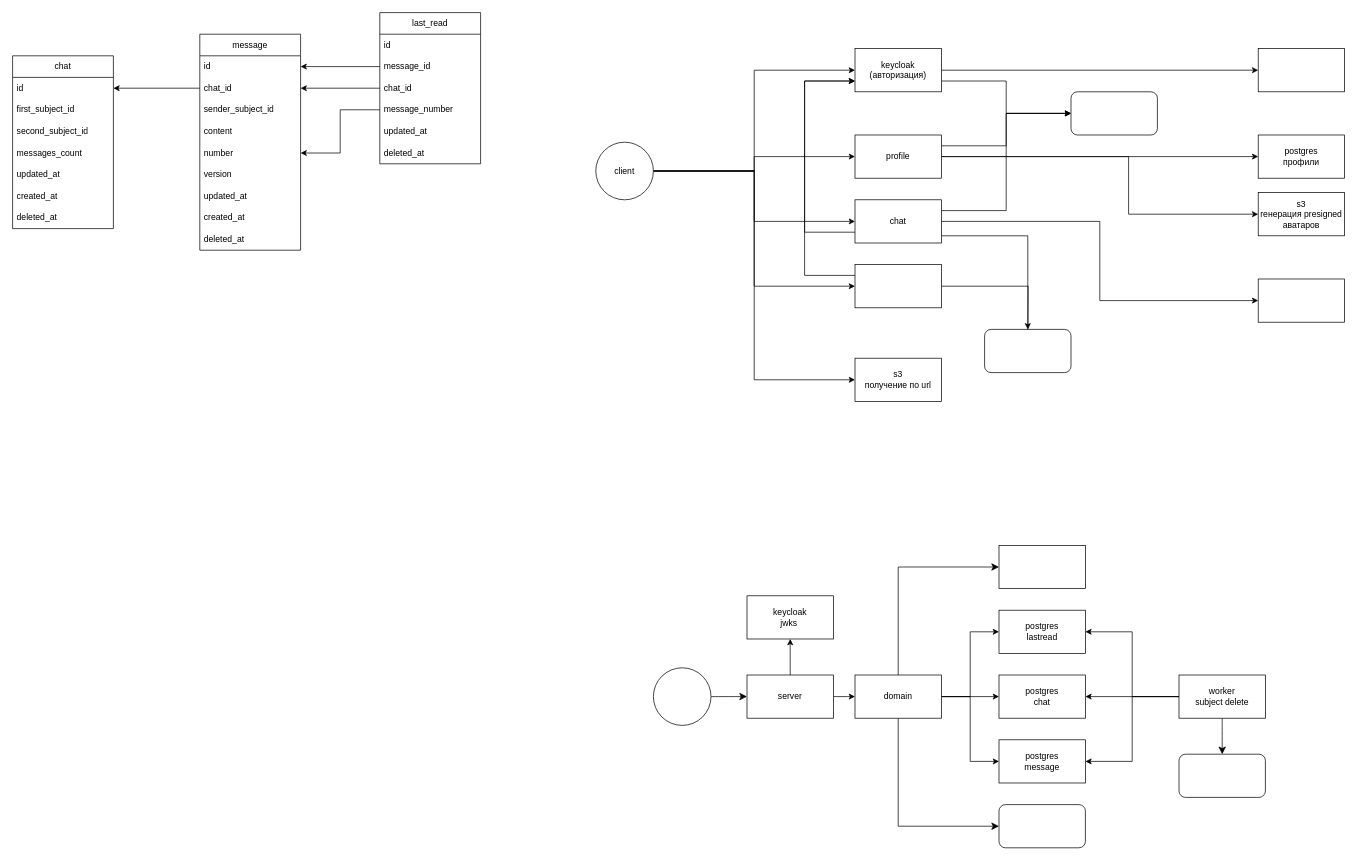
Image size: 1357x860. Some labels were removed from this diagram. The centre of each missing label's shape, as x and y in pixels:
"clients" goes at point 682,696.
"kafka consume subject delete" goes at point 1221,775.
"kafka удаление пользователя" goes at point 1113,113.
"keycloak find subject_id" goes at point 1041,567.
"postgres данные пользователей" goes at point 1301,70.
"postgres сообщения/чаты" goes at point 1301,300.
"redis pub/sub сообщения чтение" goes at point 1027,351.
"redis publish message lastread" goes at point 1041,826.
"websocket" goes at point 897,286.
